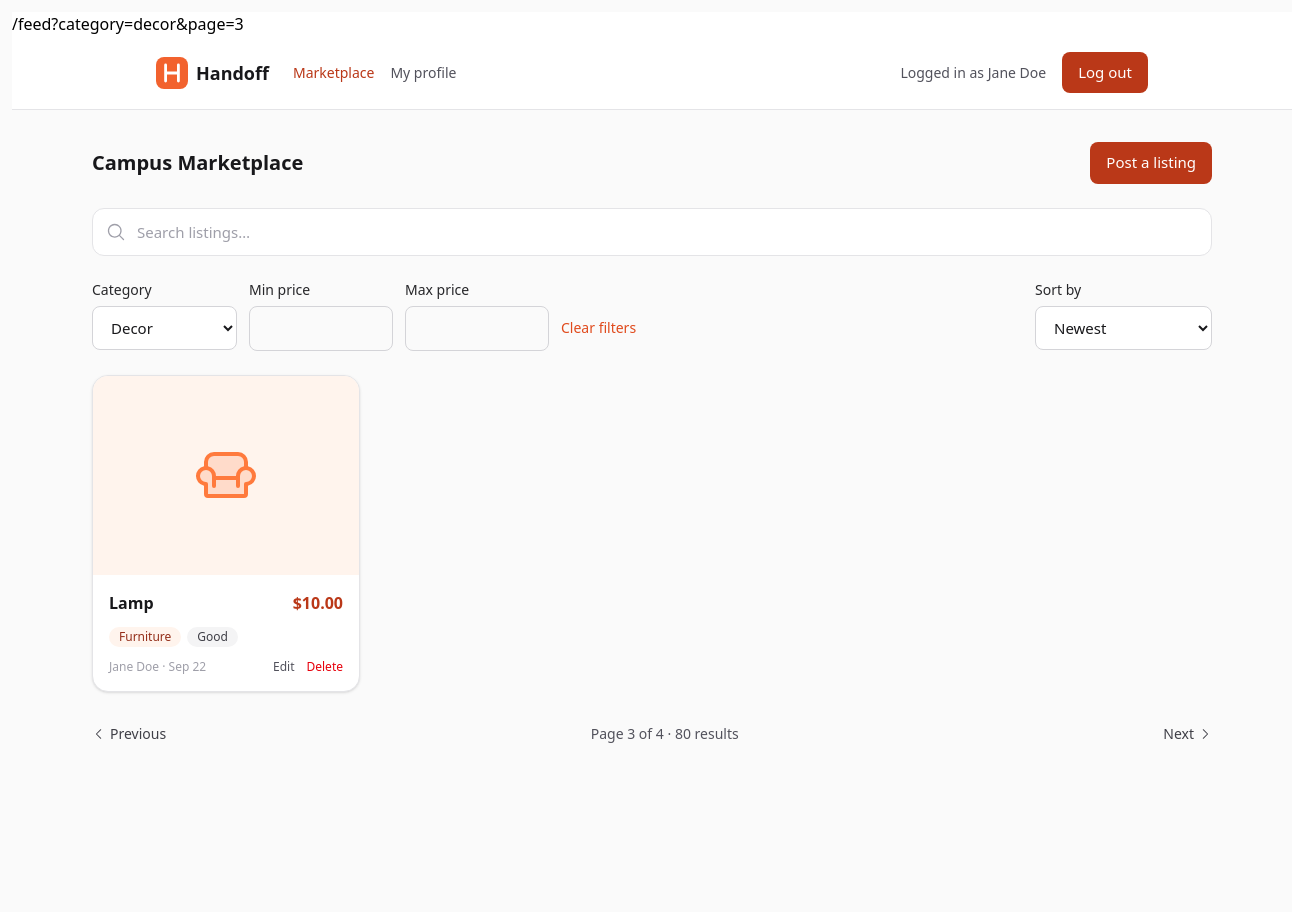
it: FeedPage › changing a filter resets to page 1
Check: the link "Lamp" is shown, box [109, 592, 154, 614]
Select "Kitchen" in the dropdown labelled "Category" at (164, 328), box [92, 306, 237, 350]
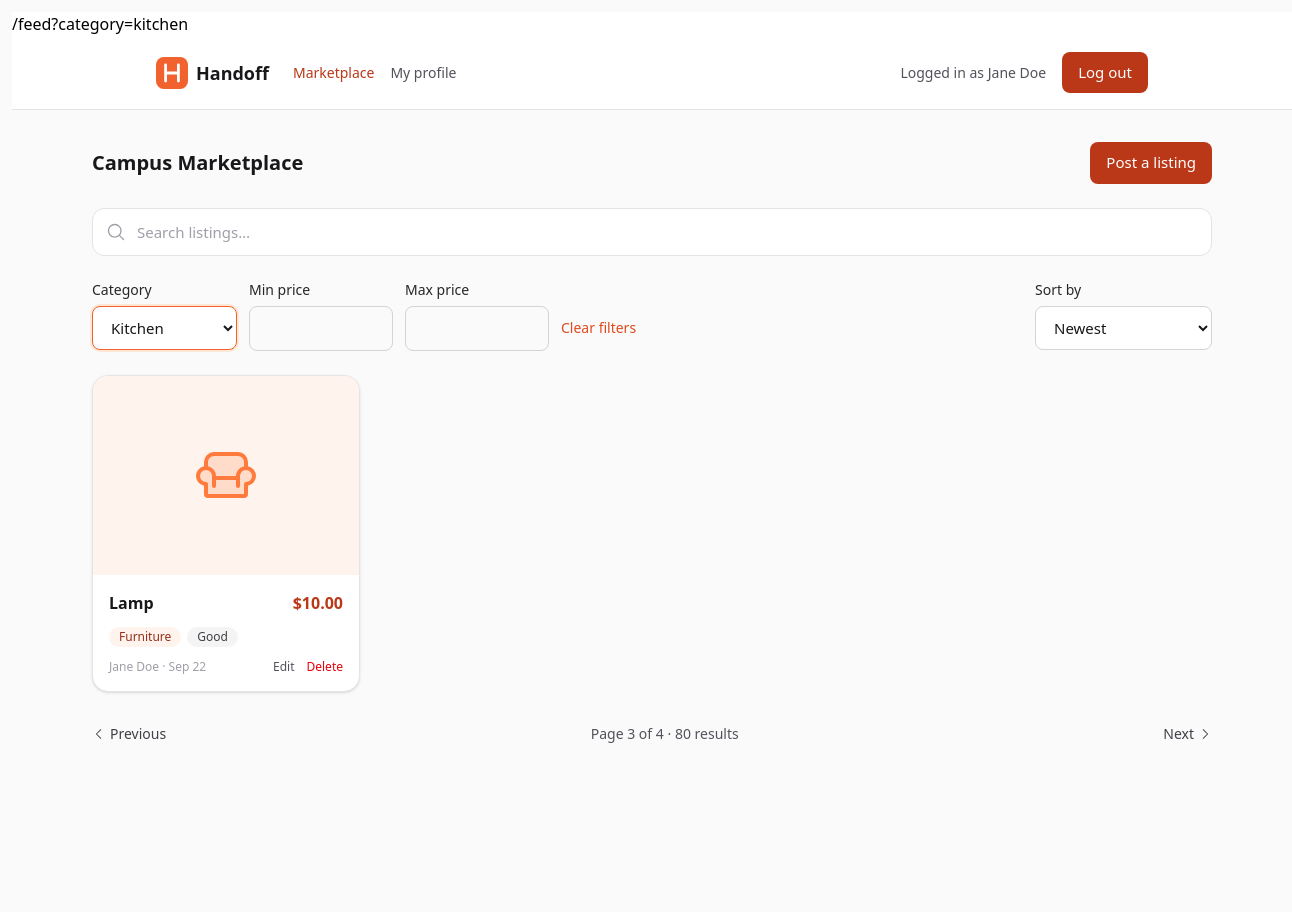
Check: the text with test id "location" reads "/feed?category=kitchen", box [12, 13, 188, 35]
